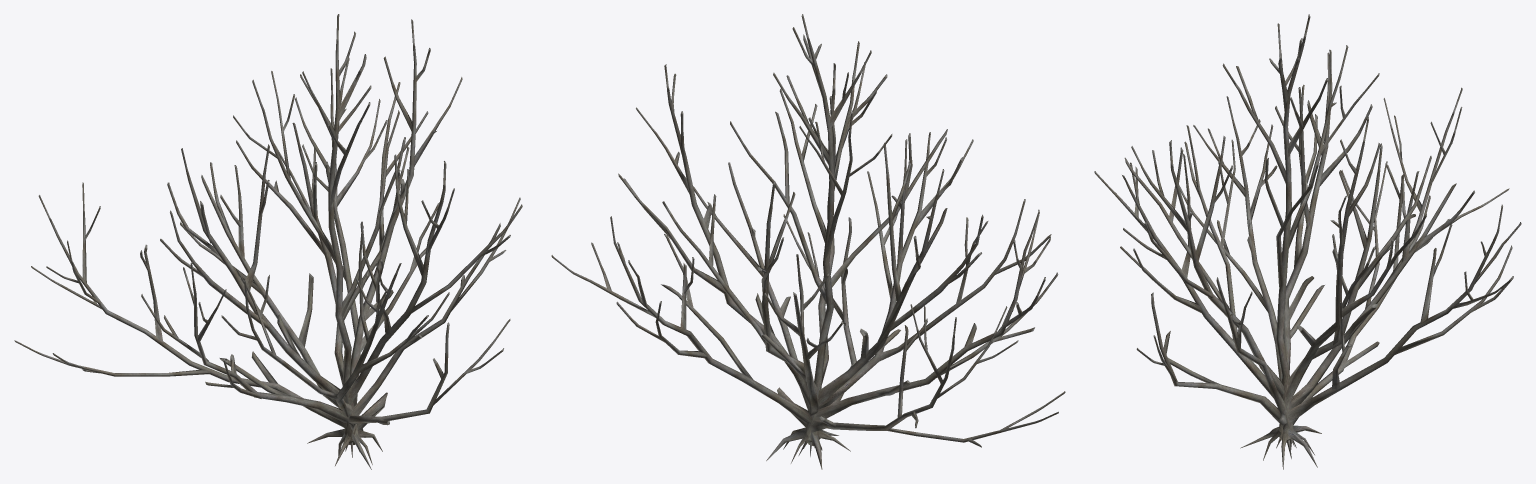
Rendered from Salix elaeagnos HD_Dead mat 75_LOD3.fbx.
The picture shows the model from 3 angles, left to right: view 1: azimuth 30°, elevation 25°; view 2: azimuth 150°, elevation 25°; view 3: azimuth 270°, elevation 25°; orthographic projection. The views are drawn at different scales.
Parts seen in each view (by area): view 1: Salix_elaeagnos_HD; view 2: Salix_elaeagnos_HD; view 3: Salix_elaeagnos_HD.
Boxes of the visible parts, x1,y1,x2,y2 form: Salix_elaeagnos_HD: [14, 14, 522, 469]; Salix_elaeagnos_HD: [551, 14, 1065, 469]; Salix_elaeagnos_HD: [1094, 14, 1521, 469].
Bounding box in the file's own units: 1.61 × 1.53 × 1.34.
Materials: 2 (2 with a texture image).
